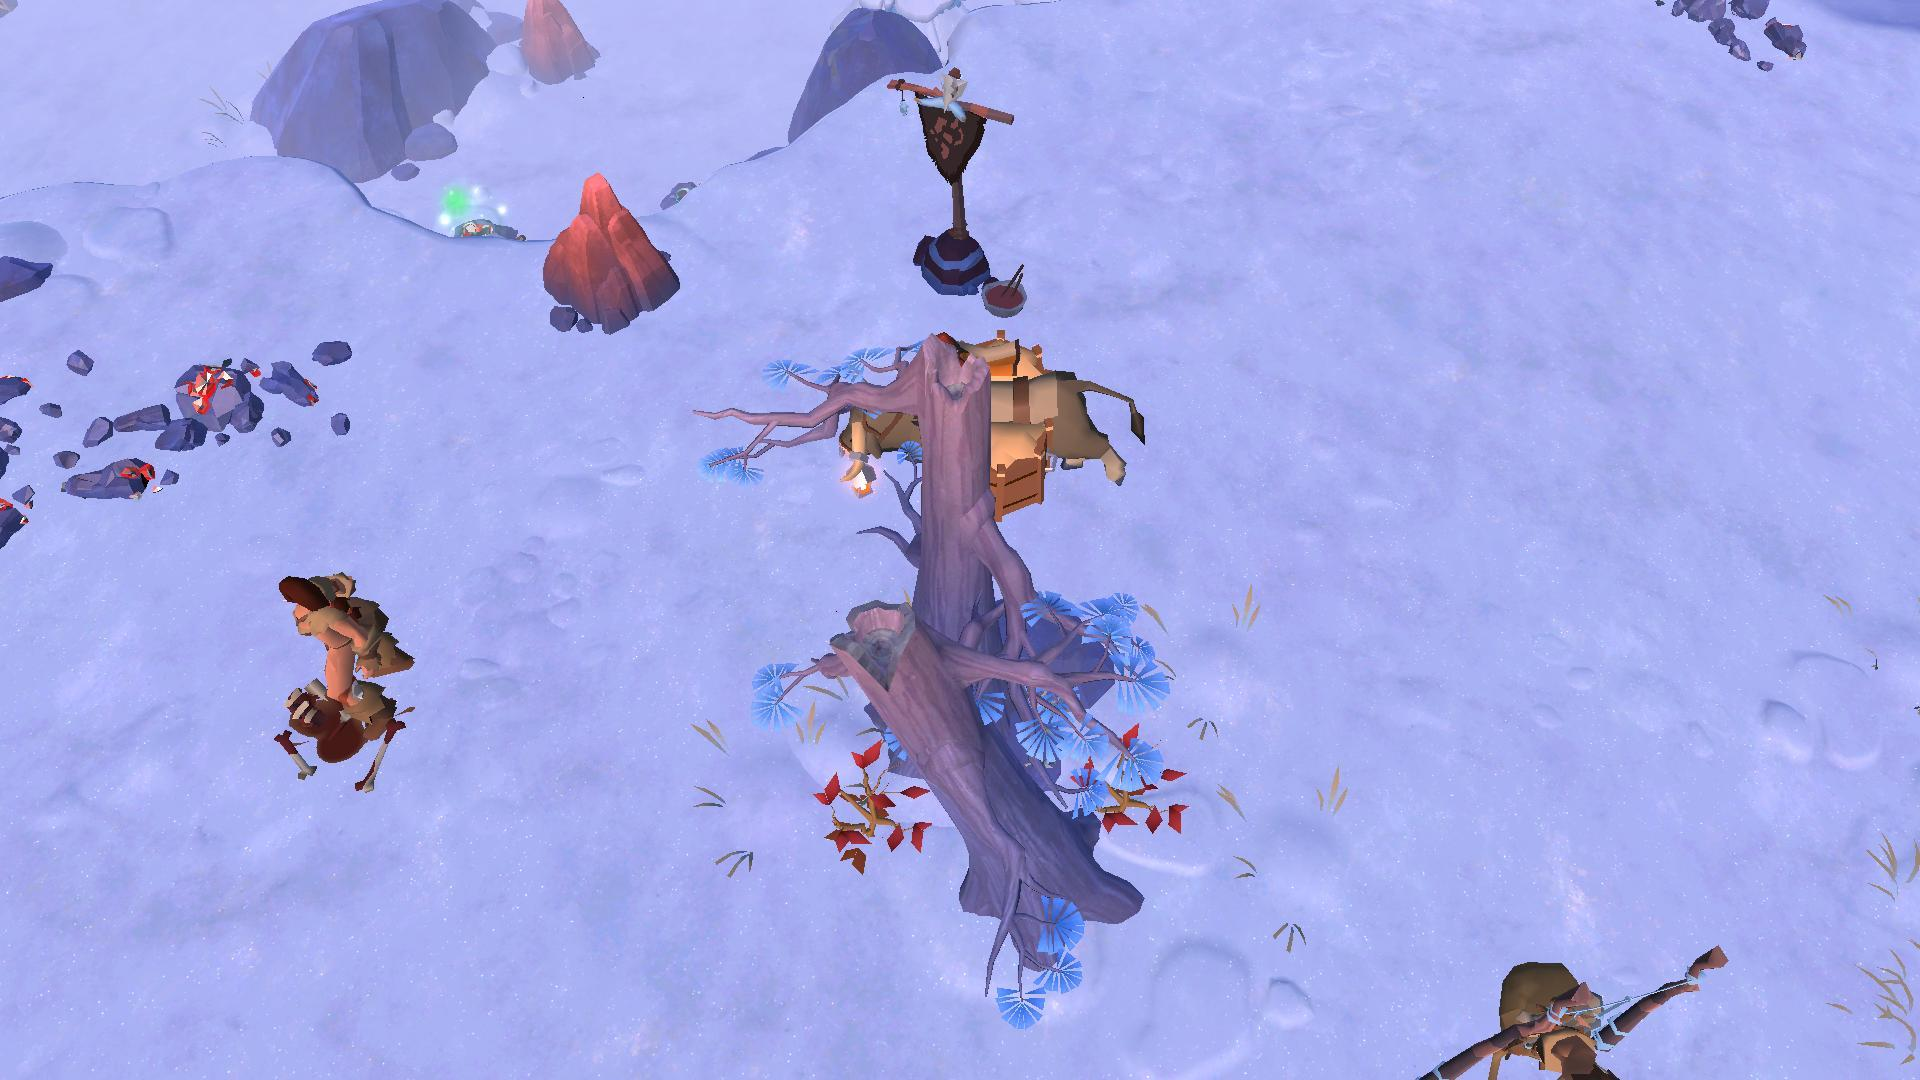enemy_factionKeeper: (277, 559, 418, 729)
rock_t5: (529, 167, 686, 324), (501, 0, 592, 92)
